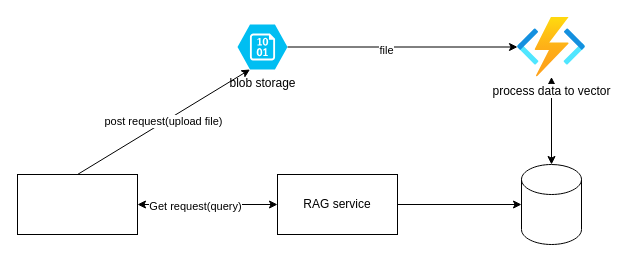
Image size: 628x262. Some labels were removed from this diagram. The shapes that lost their labels are listed below. From the top down, each one's centre as x and y in pixels, then its label:
At [77,204]: "client".
At [551,204]: "vector database".
